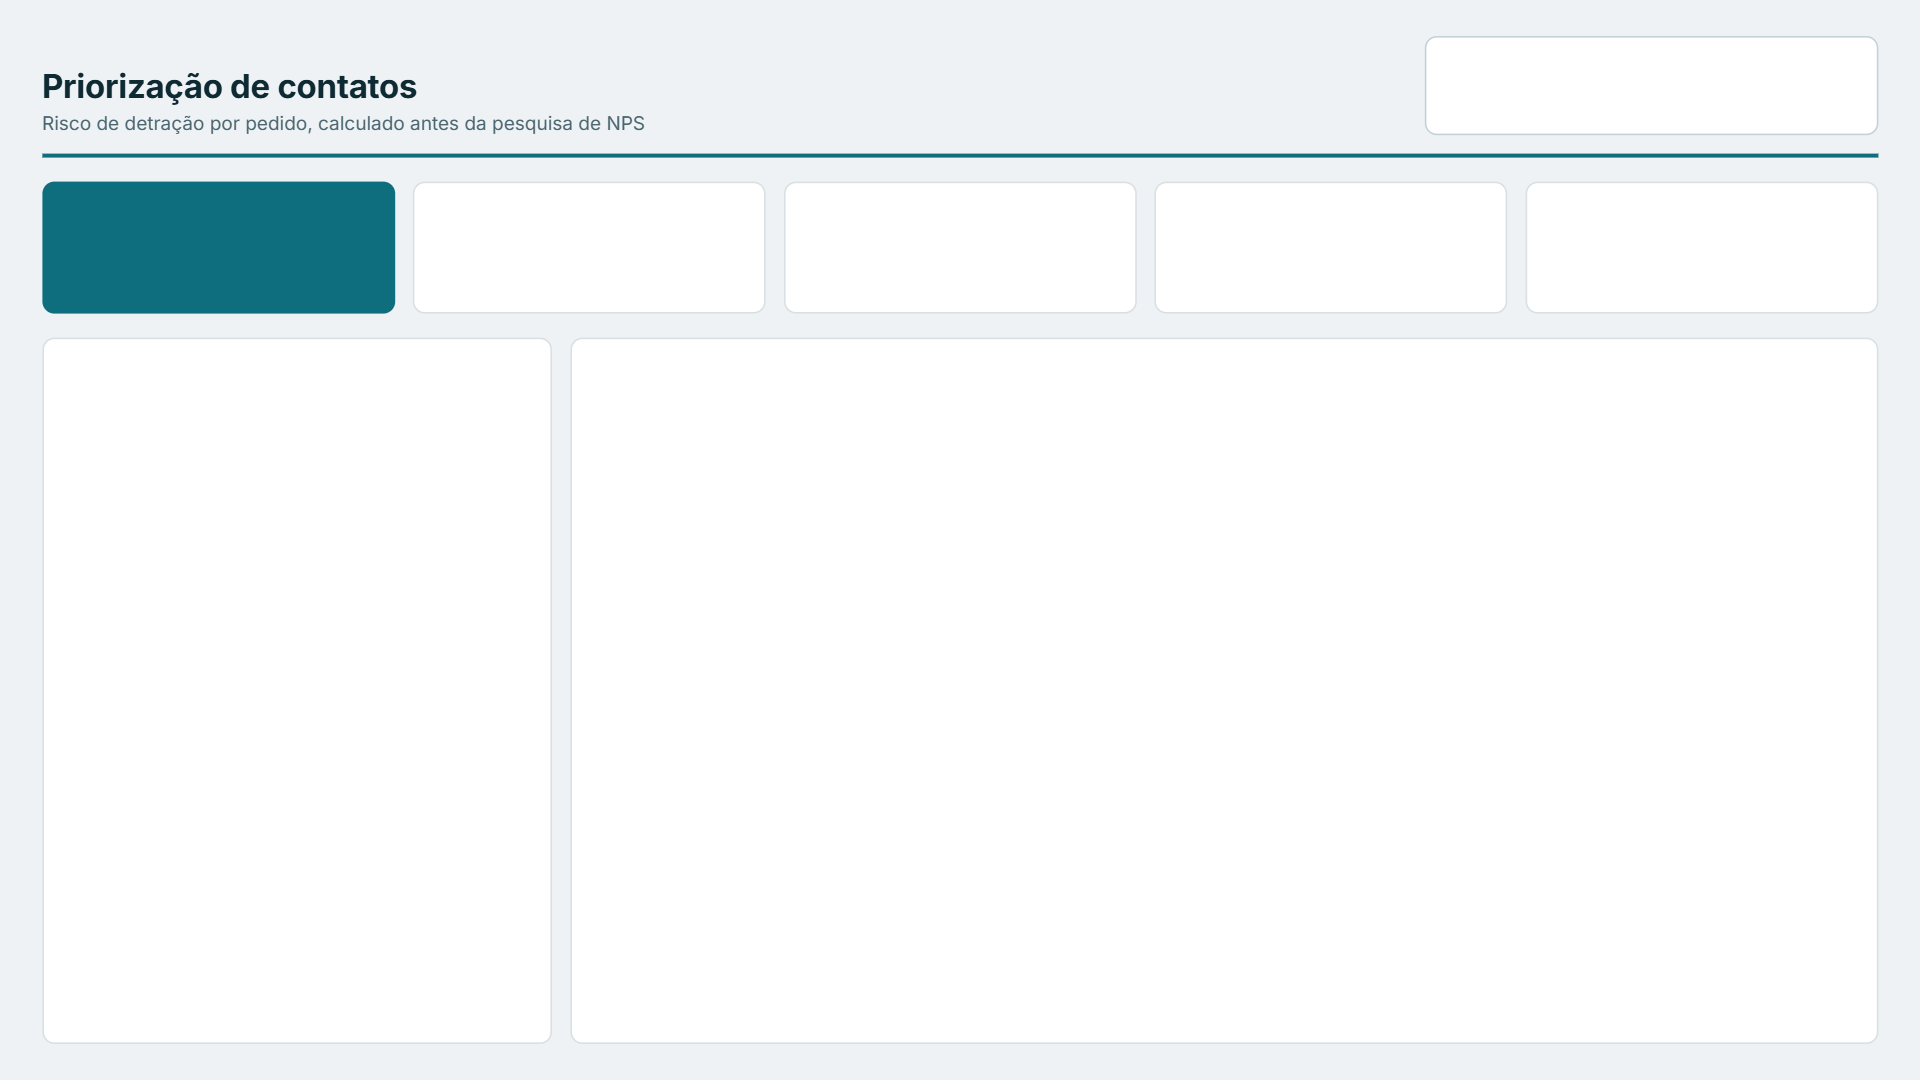

This screenshot's page, from the dashboard's own definition file:
{"tool":"powerbi","page":{"name":"Priorização","canvas":[1920,1080],"ordinal":1},"visuals":[{"type":"slicer","fields":{"Values":["Limiar.Limiar"]},"box":[1426,41.6,454.2,95.9],"z":0},{"type":"slicer","fields":{"Values":["Pedidos.customer_region"]},"box":[1064.1,63.3,178,62.1],"z":1000},{"type":"slicer","fields":{"Values":["Pedidos.Faixa de Atraso"]},"box":[1241.4,63.3,178,62.1],"z":2000},{"type":"pageNavigator","box":[649.7,63.3,400,62],"z":3000},{"type":"cardVisual","fields":{"Data":["_Medidas.Detratores Pedidos"]},"box":[1529.3,182.3,345.8,135.8],"z":4000},{"type":"cardVisual","fields":{"Data":["_Medidas.Clientes Priorizados"]},"box":[43.2,182.3,352,140],"z":5000},{"type":"cardVisual","fields":{"Data":["_Medidas.Detratores Capturados"]},"box":[413.7,182.3,347.9,135.8],"z":6000},{"type":"cardVisual","fields":{"Data":["_Medidas.Recall no Limiar"]},"box":[786.3,182.3,349.9,140],"z":7000},{"type":"cardVisual","fields":{"Data":["_Medidas.Precisão no Limiar"]},"box":[1154.7,182.3,352,140],"z":8000},{"type":"textbox","box":[1425.3,41.6,451.3,41.6],"z":9000},{"type":"barChart","title":"Mais da metade da base está em risco alto","fields":{"Category":["Pedidos.faixa_risco"],"Y":["_Medidas.Pedidos"]},"box":[43.4,338.4,512.1,425.3],"z":10000},{"type":"tableEx","fields":{"Values":["Pedidos.order_id","Pedidos.customer_region","Pedidos.prob_detrator","_Medidas.Risco (valor)","Pedidos.faixa_risco","Pedidos.delivery_delay_days","Pedidos.complaints_count","Pedidos.order_value","_Medidas.Valor em Risco"]},"box":[571.7,338.3,1303.3,710],"z":11000},{"type":"cardVisual","fields":{"Data":["_Medidas.Valor em Risco (card)"]},"box":[61.7,755.4,475.5,135.8],"z":12000},{"type":"cardVisual","fields":{"Data":["_Medidas.% do Valor em Risco"]},"box":[61.7,891.3,475.5,135.8],"z":13000},{"type":"textbox","box":[47.4,1051.4,1828.3,27.1],"z":13001}]}

Visuals, with their boxes in screenshot pixels (x1, y1, x2, y2), scaled from the page's 1920x1080 canvas onto the 1920x1080 screenshot:
slicer - Limiar.Limiar: [x1=1426, y1=42, x2=1880, y2=138]
slicer - Pedidos.customer_region: [x1=1064, y1=63, x2=1242, y2=125]
slicer - Pedidos.Faixa de Atraso: [x1=1241, y1=63, x2=1419, y2=125]
pageNavigator: [x1=650, y1=63, x2=1050, y2=125]
cardVisual - _Medidas.Detratores Pedidos: [x1=1529, y1=182, x2=1875, y2=318]
cardVisual - _Medidas.Clientes Priorizados: [x1=43, y1=182, x2=395, y2=322]
cardVisual - _Medidas.Detratores Capturados: [x1=414, y1=182, x2=762, y2=318]
cardVisual - _Medidas.Recall no Limiar: [x1=786, y1=182, x2=1136, y2=322]
cardVisual - _Medidas.Precisão no Limiar: [x1=1155, y1=182, x2=1507, y2=322]
textbox: [x1=1425, y1=42, x2=1877, y2=83]
"Mais da metade da base está em risco alto" barChart: [x1=43, y1=338, x2=556, y2=764]
tableEx - Pedidos.order_id x Pedidos.customer_region: [x1=572, y1=338, x2=1875, y2=1048]
cardVisual - _Medidas.Valor em Risco (card): [x1=62, y1=755, x2=537, y2=891]
cardVisual - _Medidas.% do Valor em Risco: [x1=62, y1=891, x2=537, y2=1027]
textbox: [x1=47, y1=1051, x2=1876, y2=1078]
